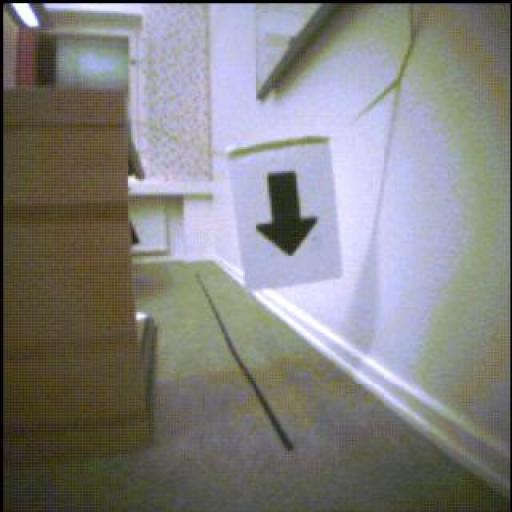arrow: (257, 172, 318, 257)
